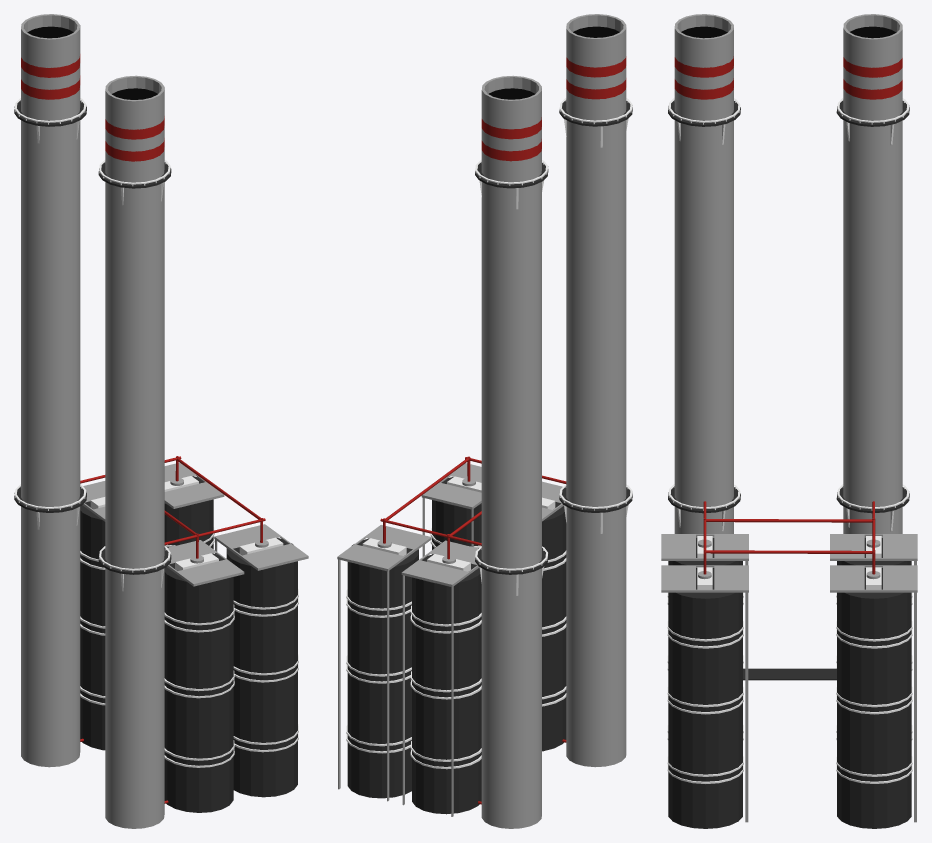
File: Gas Plant 4.FBX
3 renders of one model, left to right at view 1: azimuth 30°, elevation 25°; view 2: azimuth 150°, elevation 25°; view 3: azimuth 270°, elevation 25°, orthographic.
Parts seen in each view (by area): view 1: Cylinder015; view 2: Cylinder015; view 3: Cylinder015.
Part boxes in pixels (x1=…): Cylinder015: x1=14, y1=14, x2=308, y2=828; Cylinder015: x1=337, y1=14, x2=632, y2=828; Cylinder015: x1=661, y1=14, x2=917, y2=828.
Size of the model in its own units: 23.17 by 84.07 by 26.83.
